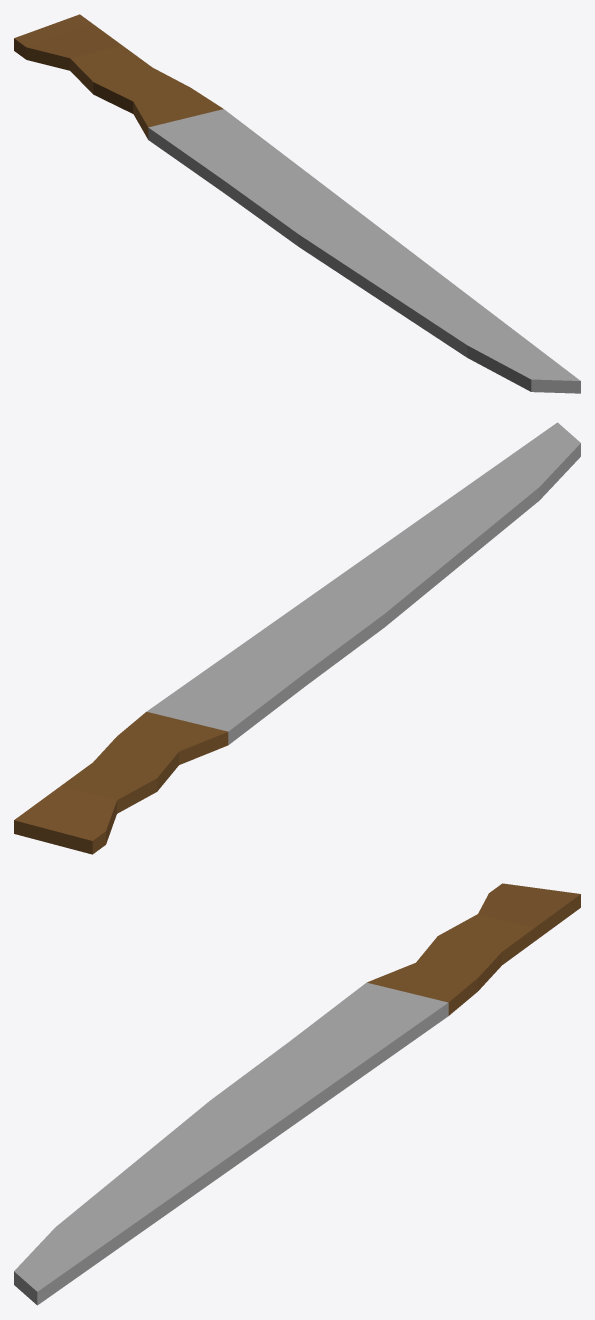
3 views of the same model, one above another, from view 1: azimuth 30°, elevation 25°; view 2: azimuth 150°, elevation 25°; view 3: azimuth 330°, elevation 25° (orthographic). The views are drawn at different scales.
Visible parts, largest first — view 1: 立方体; view 2: 立方体; view 3: 立方体.
Part boxes in pixels (x1,y1,x2,y2): 立方体: (14,14,580,393); 立方体: (14,422,580,854); 立方体: (14,883,580,1305).
Bounding box in the file's own units: 43.3 × 8.91 × 469.
